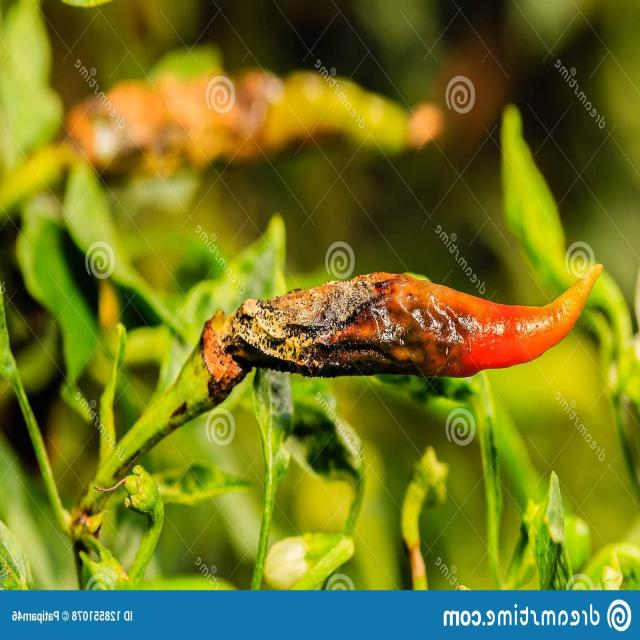Chili_anthracnose: (244, 279, 439, 366)
